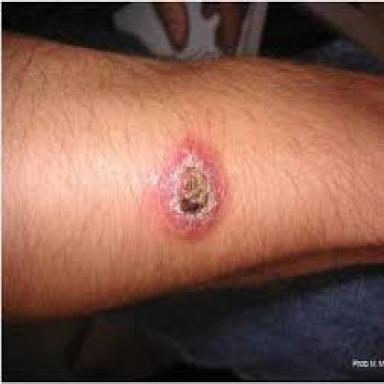Leishmanios: (159, 140, 227, 237)
